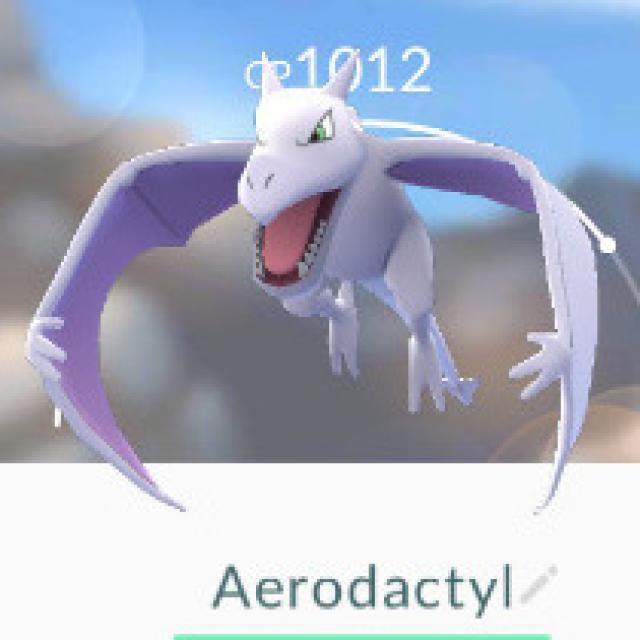Aerodactyl: (148, 65, 567, 317)
